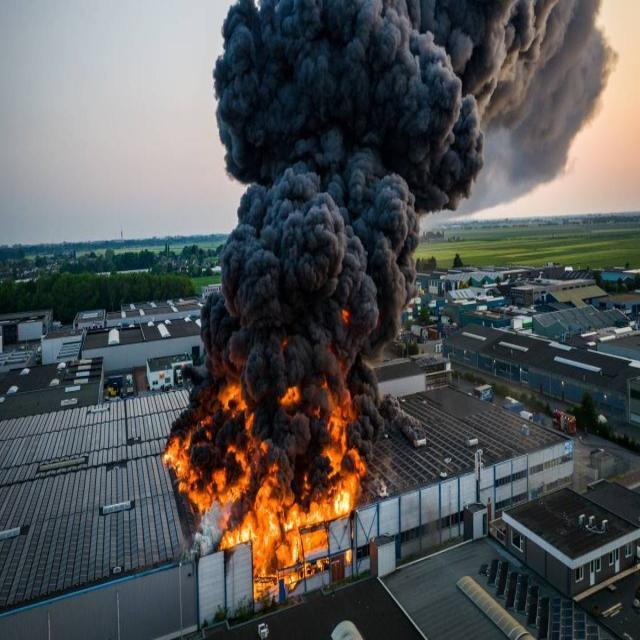Fire: (162, 383, 364, 601)
Smoke: (164, 0, 620, 530)
